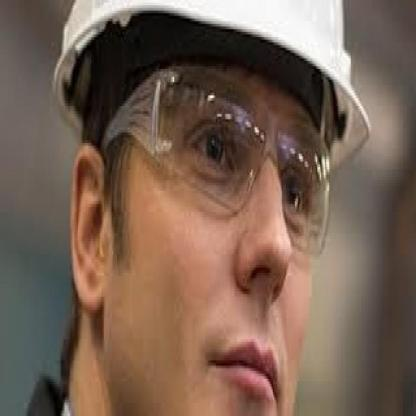oculos: (103, 60, 335, 276)
